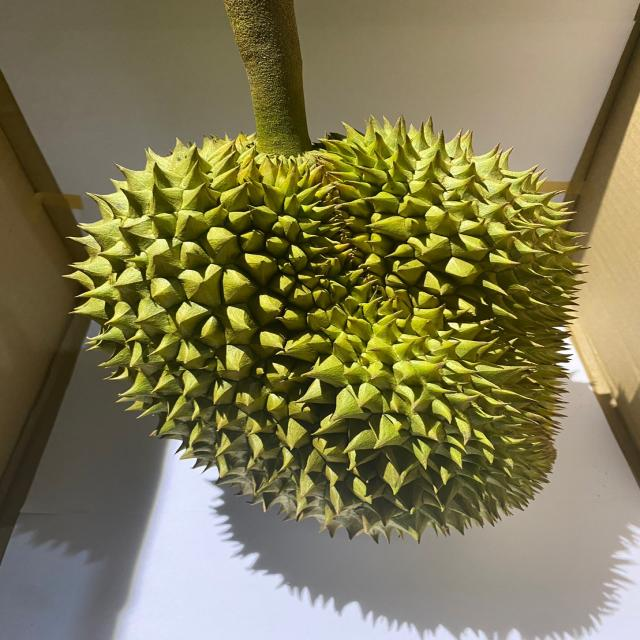immature: (64, 108, 589, 546)
